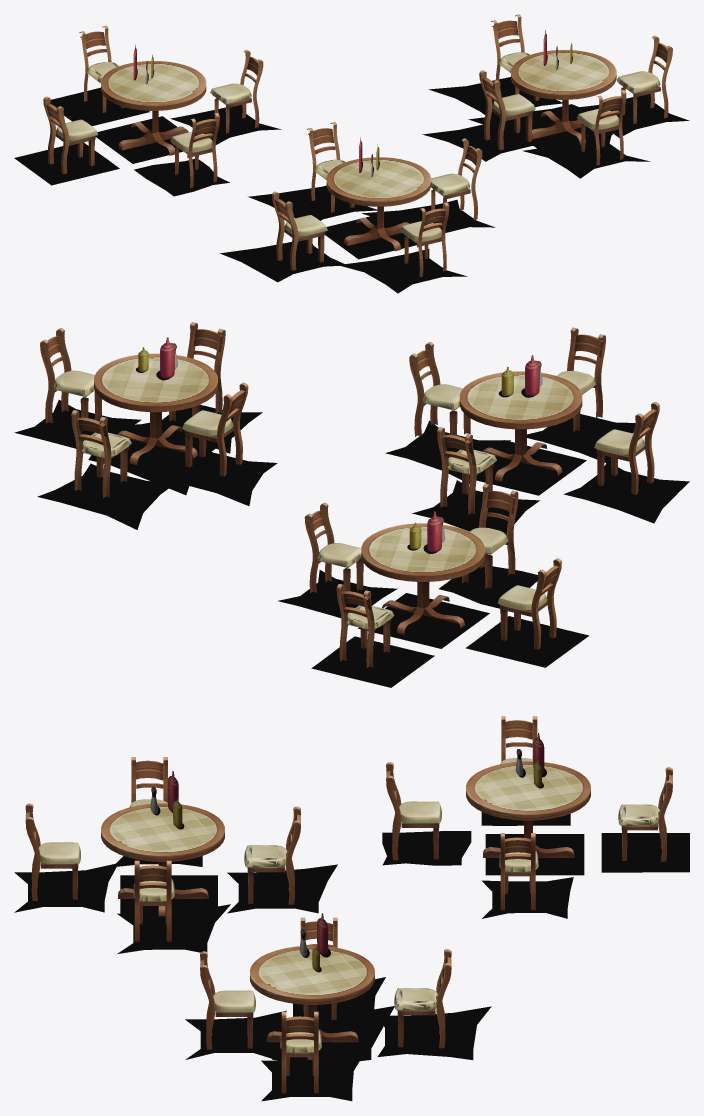
The model's file is K1_oldchair1.FBX.
3 renders of one model, top to bottom at view 1: azimuth 30°, elevation 25°; view 2: azimuth 150°, elevation 25°; view 3: azimuth 270°, elevation 25°, orthographic. The views are drawn at different scales.
Visible parts, largest first — view 1: oldtable1, oldtable3, oldtable2, oldchair10, oldtable2_yy, oldchair11, oldchair02_yy, cc_oldchair06, cc_oldchair10, cc_oldchair02, oldchair03_yy, oldtable3_yy (+18 smaller); view 2: oldtable2, oldtable1, oldtable3, oldchair05_yy, oldtable2_yy, oldchair10, oldchair01_yy, oldchair02_yy, oldtable1_yy, cc_oldchair06, cc_oldchair10, cc_oldchair05 (+21 smaller); view 3: oldtable1, oldtable2, oldtable3, oldchair05_yy, oldtable2_yy, oldchair09, oldchair01_yy, oldchair11, oldchair08_yy, oldchair12, oldchair03_yy, oldchair04_yy (+17 smaller).
Boxes of the visible parts, x1,y1,x2,y2 form: oldtable1: (101,61,206,155); oldtable3: (326,157,431,251); oldtable2: (511,50,616,144); oldchair10: (220,240,346,282); oldtable2_yy: (468,104,612,151); oldchair11: (340,249,467,293); oldchair02_yy: (14,142,119,185); cc_oldchair06: (479,70,535,150); cc_oldchair10: (272,191,327,270); cc_oldchair02: (43,96,98,174); oldchair03_yy: (134,159,229,196); oldtable3_yy: (325,212,416,259); oldtable2: (94,353,217,464); oldtable1: (361,523,485,634); oldtable3: (459,371,582,481); oldchair05_yy: (37,463,168,529); oldtable2_yy: (88,424,218,495); oldchair10: (563,461,689,523); oldchair01_yy: (311,636,434,687); oldchair02_yy: (465,616,588,667); oldtable1_yy: (358,593,489,648); cc_oldchair06: (182,382,248,476); cc_oldchair10: (594,402,659,494); cc_oldchair05: (71,410,131,498); oldtable1: (466,761,590,857); oldtable2: (250,945,374,1059); oldtable3: (101,803,224,916); oldchair05_yy: (377,1006,491,1059); oldtable2_yy: (261,1006,394,1062); oldchair09: (227,864,337,913); oldchair01_yy: (601,833,689,872); oldchair11: (14,863,116,912); oldchair08_yy: (261,1060,359,1101); oldchair12: (117,904,230,953); oldchair03_yy: (382,831,471,865); oldchair04_yy: (482,877,573,918).
Size of the model in its own units: 365 by 64.95 by 331.
